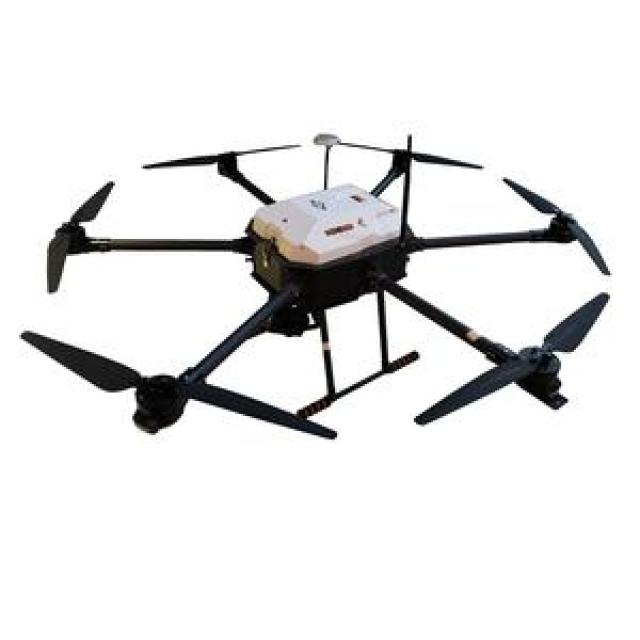drone: (0, 101, 640, 468)
